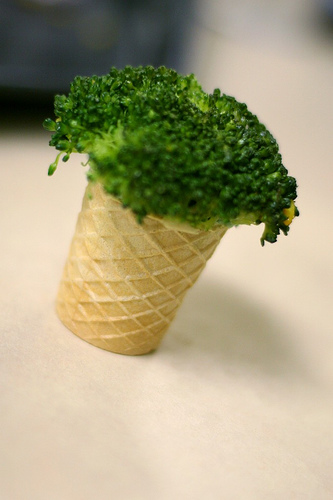broccoli: (40, 65, 300, 248)
